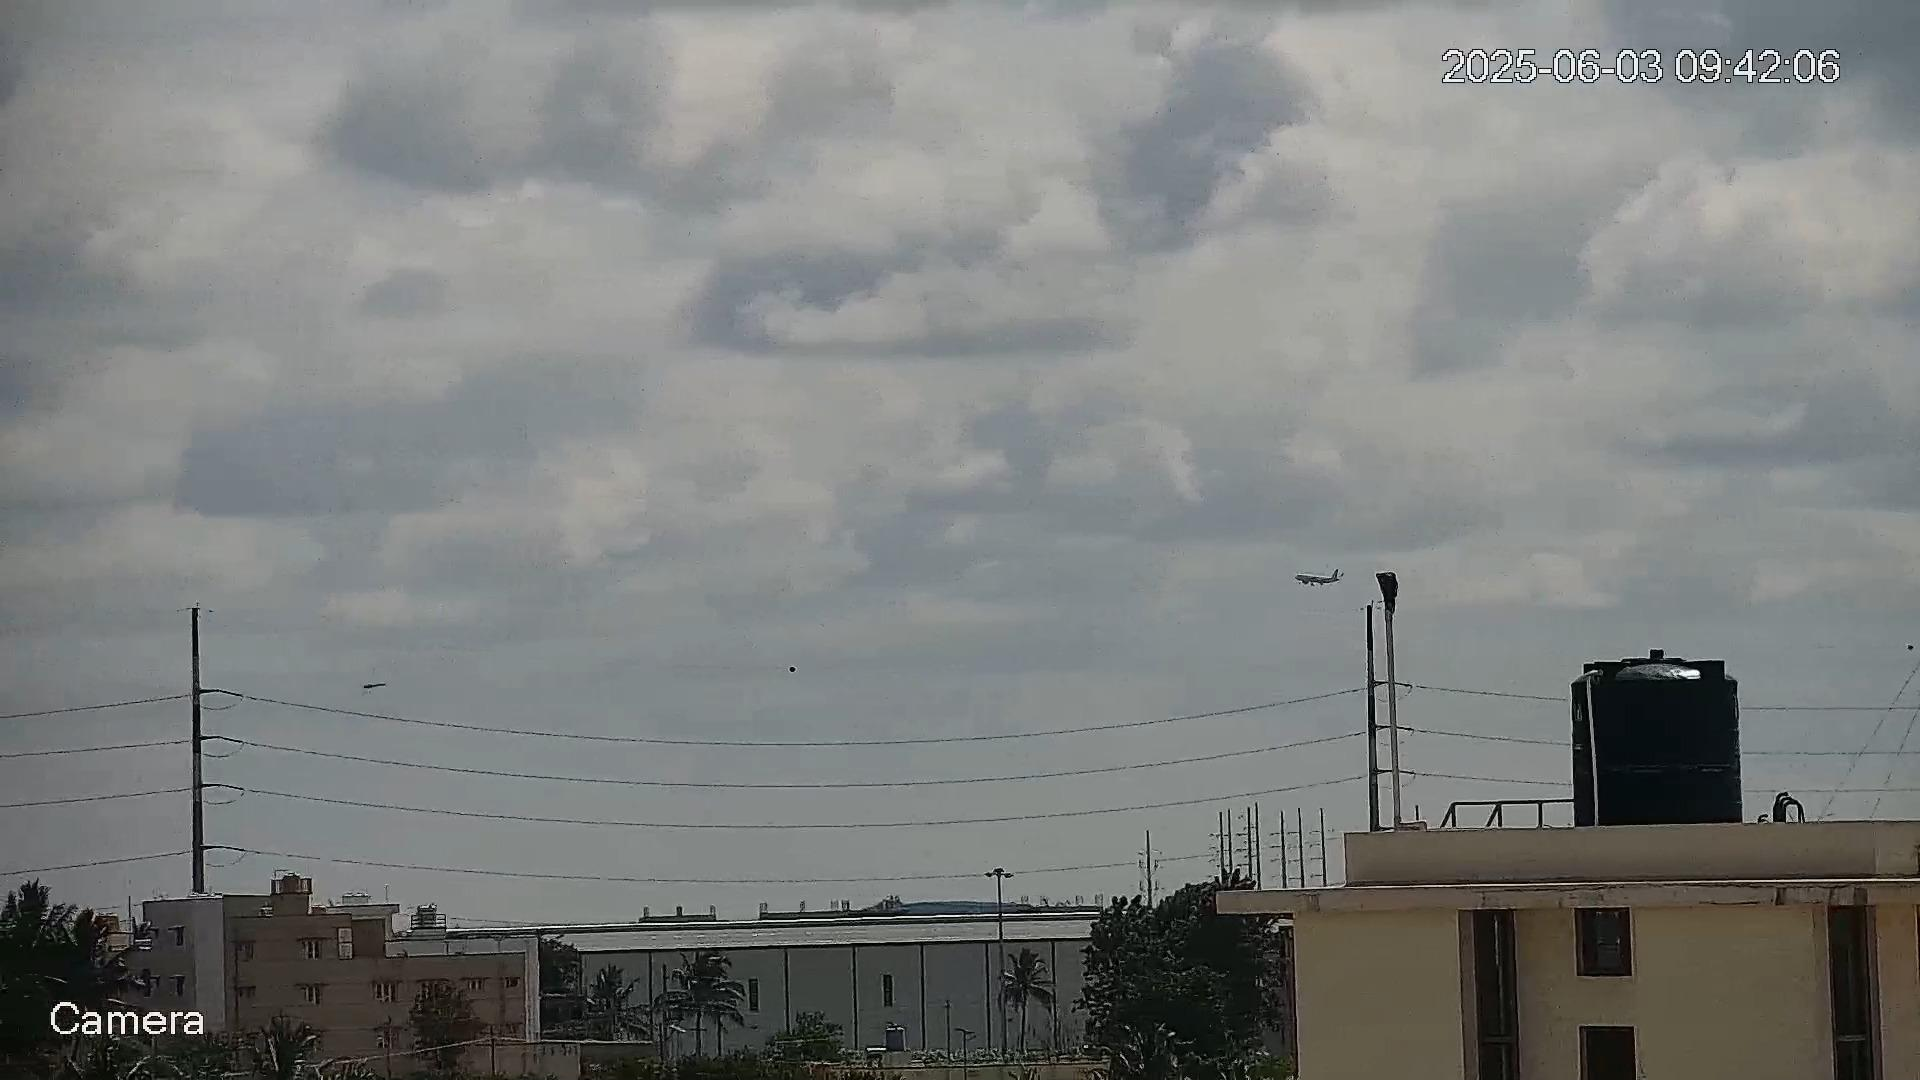Aircraft: (1290, 566, 1344, 589)
